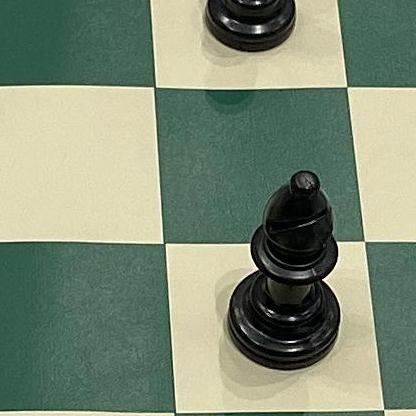black-bishop: (214, 156, 365, 386)
black-pawn: (193, 0, 310, 62)
